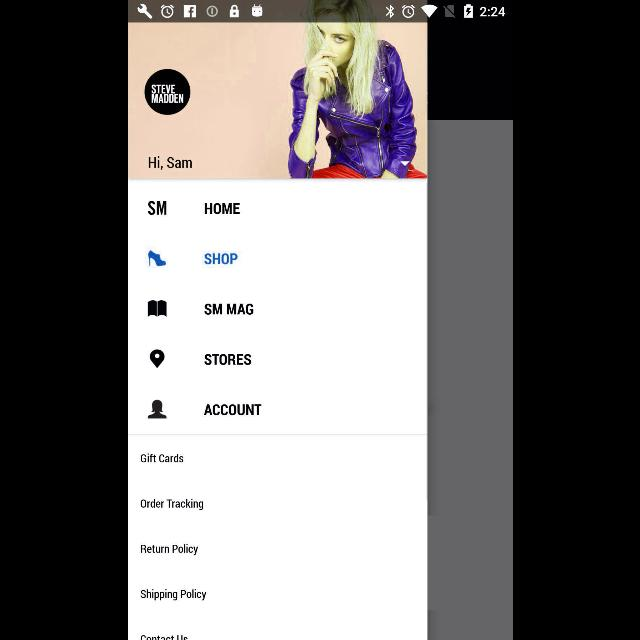icon: (146, 399, 166, 418), (148, 300, 166, 318), (150, 349, 164, 368)
image: (128, 23, 426, 178), (144, 69, 190, 115), (147, 250, 165, 266)
panel: (128, 22, 426, 640)
text: (140, 589, 206, 601), (140, 499, 202, 511), (203, 404, 261, 416), (140, 544, 198, 556), (147, 156, 191, 170), (204, 303, 252, 315), (203, 354, 251, 366), (204, 203, 240, 215), (140, 453, 183, 462), (204, 253, 236, 265), (148, 200, 166, 216), (140, 634, 188, 640)
uppertaskbar: (128, 1, 512, 23)
